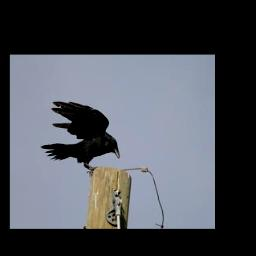Crow: (39, 99, 120, 176)
